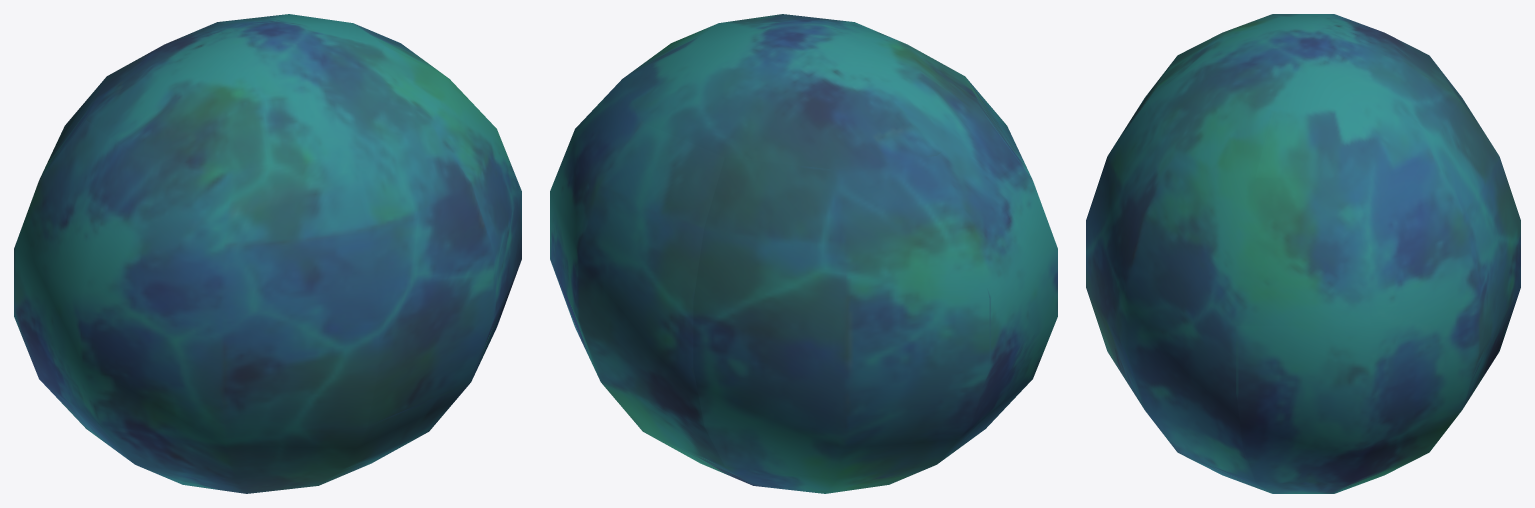
File: celestialPrism_sphere.glb
3 views of the same model, side by side, from view 1: azimuth 30°, elevation 25°; view 2: azimuth 150°, elevation 25°; view 3: azimuth 270°, elevation 25° (orthographic).
Visible parts, largest first — view 1: polySurface23.005; view 2: polySurface23.005; view 3: polySurface23.005.
Boxes of the visible parts, x1=… form: polySurface23.005: x1=14, y1=14, x2=521, y2=493; polySurface23.005: x1=550, y1=14, x2=1057, y2=493; polySurface23.005: x1=1086, y1=14, x2=1520, y2=493.
Size of the model in its own units: 0.1823 by 0.1733 by 0.1588.
1 material, 1 textured.
